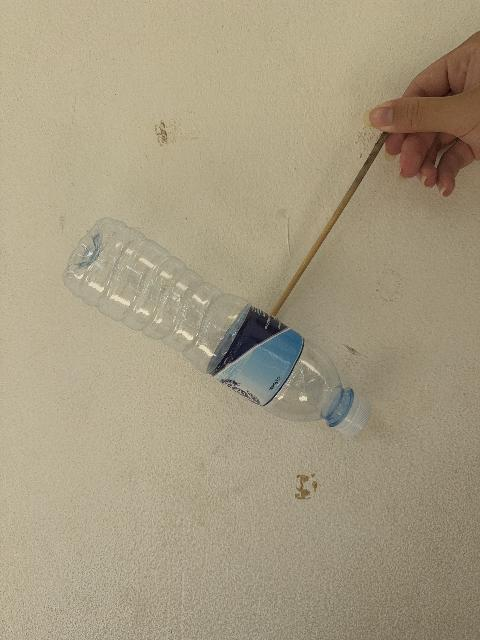bottle: (64, 218, 370, 435)
